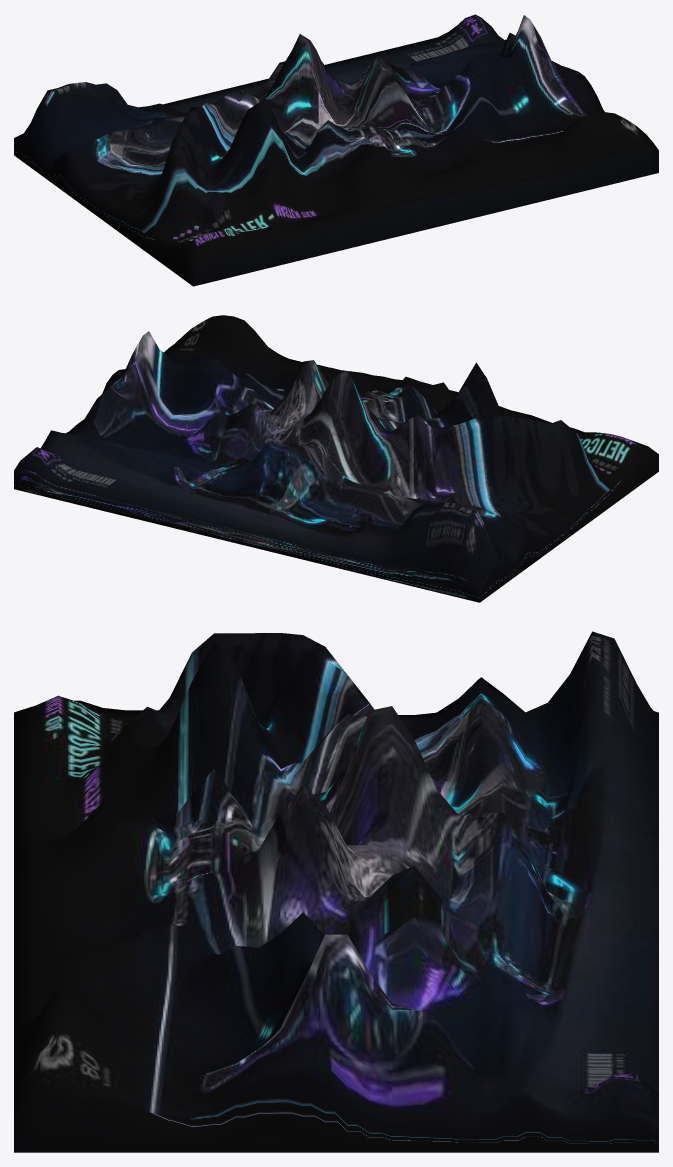
The model's file is VEHICLE_08_Helicopter.glb.
3 renders of one model, top to bottom at view 1: azimuth 30°, elevation 25°; view 2: azimuth 150°, elevation 25°; view 3: azimuth 270°, elevation 25°, orthographic. The views are drawn at different scales.
Parts seen in each view (by area): view 1: VEHICLE_08_Helicopter; view 2: VEHICLE_08_Helicopter; view 3: VEHICLE_08_Helicopter.
Boxes of the visible parts, x1,y1,x2,y2 form: VEHICLE_08_Helicopter: [14, 14, 658, 286]; VEHICLE_08_Helicopter: [14, 315, 658, 602]; VEHICLE_08_Helicopter: [14, 631, 658, 1152].
Bounding box in the file's own units: 2 × 0.51 × 1.33.
1 material, 1 textured.
